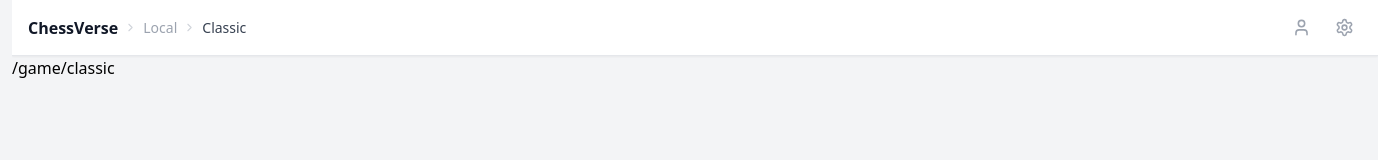
Scenario: NavBar — breadcrumbs › crumbs with a path are clickable buttons that navigate
Click the button "Local": (160, 28) left=143, top=18, right=177, bottom=38
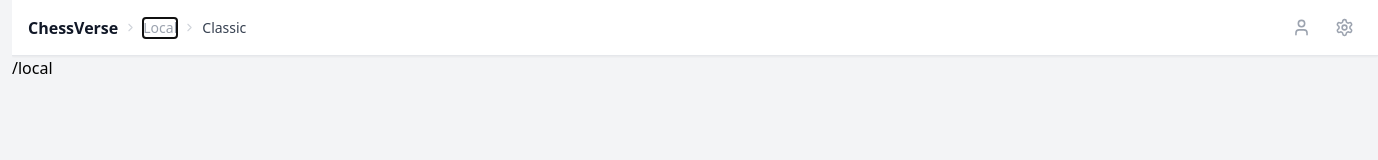
Check: the text with test id "location" reads "/local", box left=12, top=57, right=52, bottom=79
